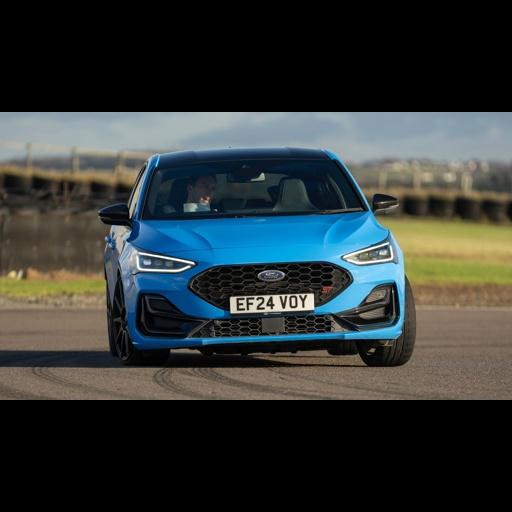hatchback: (99, 147, 415, 365)
